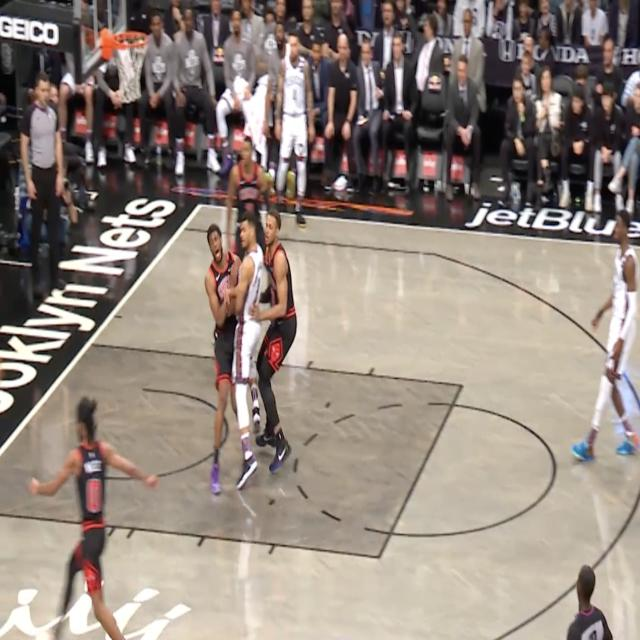Foul: (198, 204, 267, 494)
